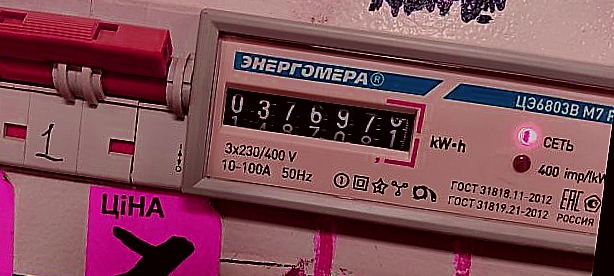0: (227, 91, 245, 114)
1: (385, 127, 397, 150)
3: (255, 97, 271, 120)
6: (307, 100, 325, 125)
7: (360, 108, 377, 133), (281, 98, 298, 122)
9: (333, 106, 350, 129)
screen: (207, 72, 429, 171)
